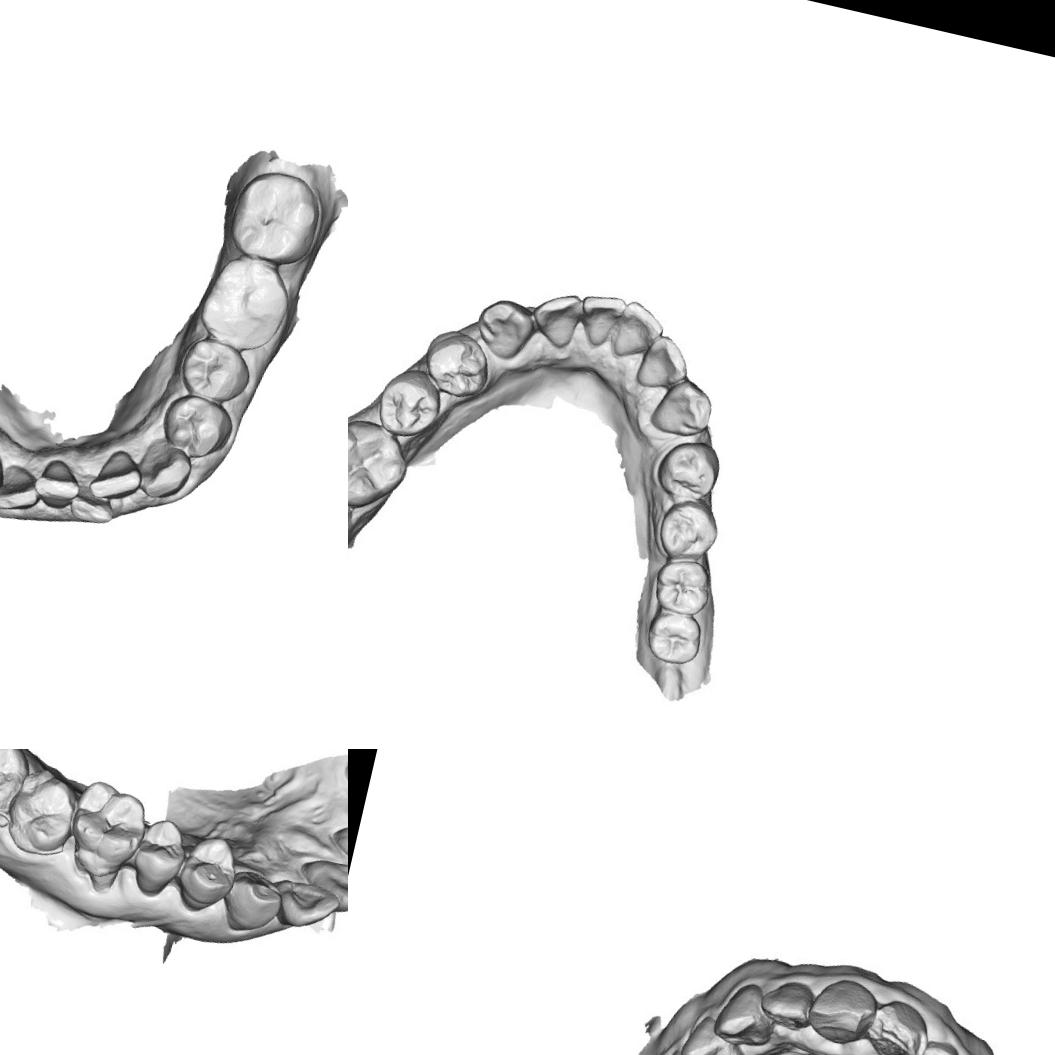canine: (644, 377, 714, 444), (712, 975, 776, 1046), (132, 438, 196, 506), (474, 298, 536, 364), (228, 869, 285, 932)
incisor: (810, 975, 876, 1045), (88, 442, 150, 512), (275, 870, 339, 934), (868, 994, 935, 1055), (292, 848, 348, 919), (28, 452, 90, 514), (608, 304, 666, 366), (762, 976, 820, 1034), (576, 292, 624, 351), (638, 334, 688, 390), (0, 460, 45, 518), (538, 292, 579, 345), (914, 1035, 967, 1055)
molar: (190, 247, 298, 359), (222, 162, 328, 272), (66, 771, 154, 872), (0, 762, 85, 860), (348, 414, 414, 517), (646, 549, 719, 622), (638, 605, 708, 674), (0, 749, 31, 825)
premolar: (173, 332, 258, 409), (170, 830, 242, 919), (155, 388, 237, 462), (128, 814, 192, 898), (652, 433, 725, 504), (652, 495, 723, 562), (424, 330, 490, 395), (378, 372, 442, 436), (678, 1016, 751, 1055)
